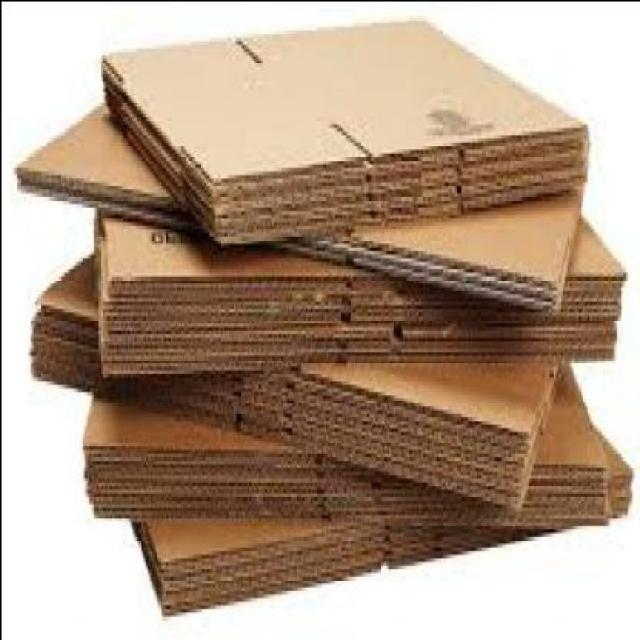CARDBOARD: (29, 242, 562, 507), (16, 101, 582, 308), (104, 14, 590, 246), (129, 419, 633, 619), (83, 358, 611, 532), (95, 210, 627, 376)
